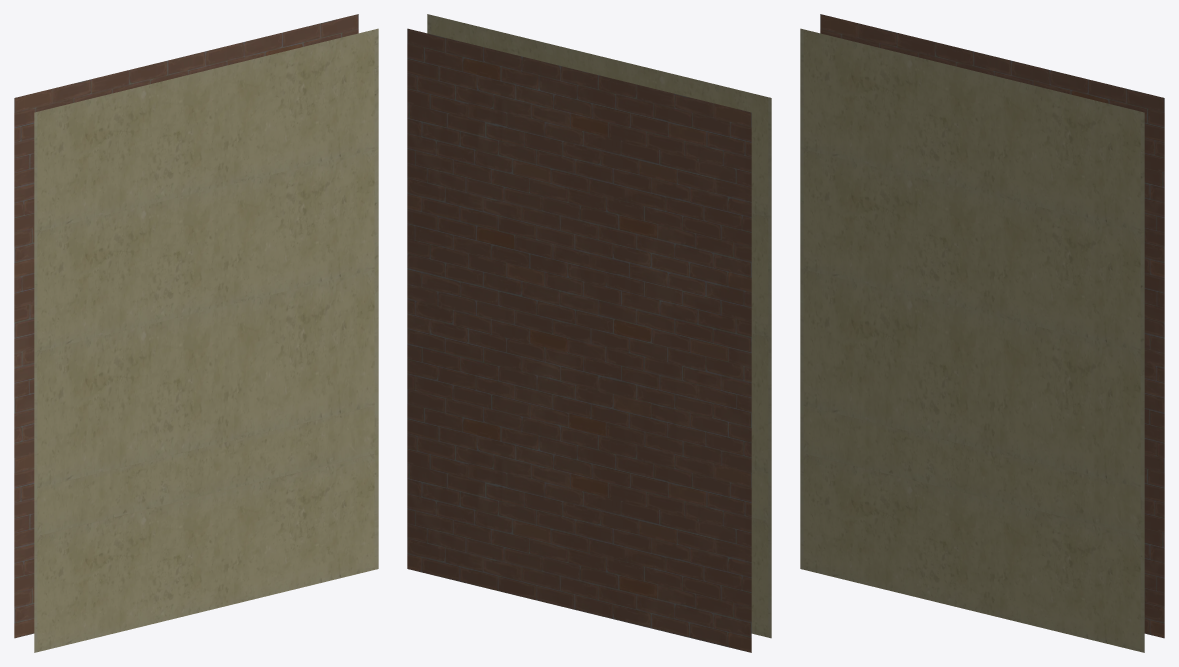
Rendered from Trim_Plain_3.glb.
3 views of the same model, side by side, from view 1: azimuth 30°, elevation 25°; view 2: azimuth 150°, elevation 25°; view 3: azimuth 330°, elevation 25° (orthographic).
Visible parts, largest first — view 1: Trim_Plain_3; view 2: Trim_Plain_3; view 3: Trim_Plain_3.
Part boxes in pixels (x1,y1,x2,y2): Trim_Plain_3: [14, 14, 378, 652]; Trim_Plain_3: [407, 14, 771, 652]; Trim_Plain_3: [800, 14, 1164, 652].
Bounding box in the file's own units: 2 × 3 × 0.2.
2 materials, 2 textured.
